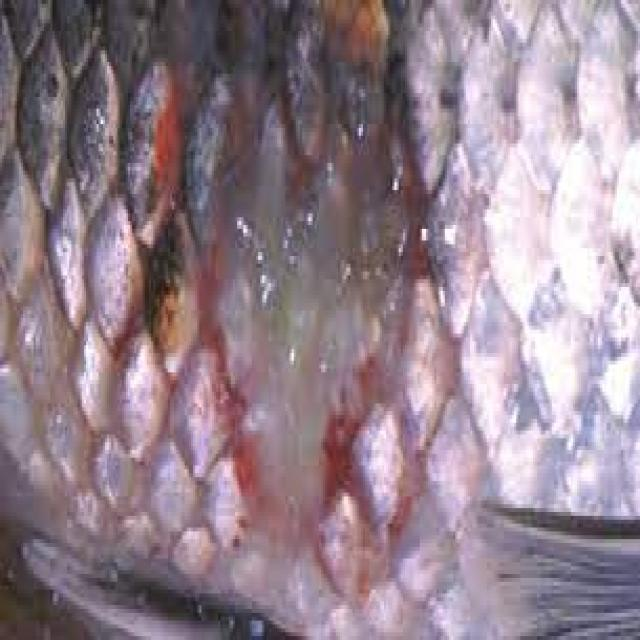EUS Disease: (6, 4, 640, 639), (99, 3, 518, 619)
